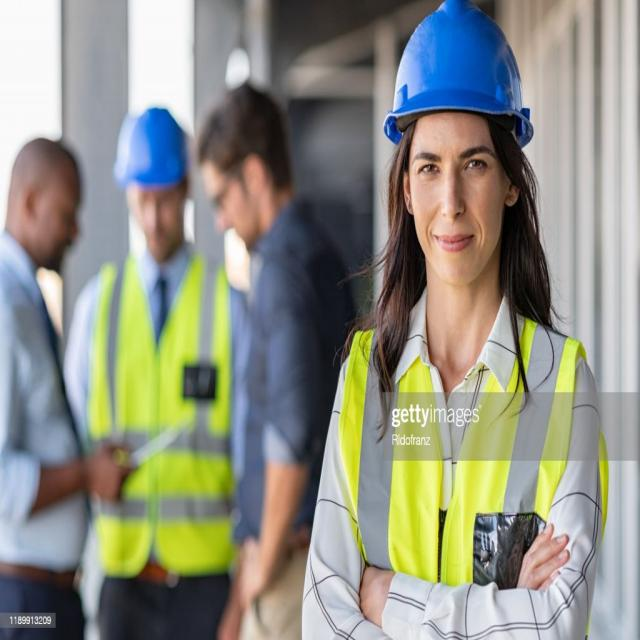Reflective-Jacket: (334, 310, 604, 605), (88, 248, 238, 582)
Safety-Helmet: (382, 4, 534, 151), (112, 99, 191, 196)
